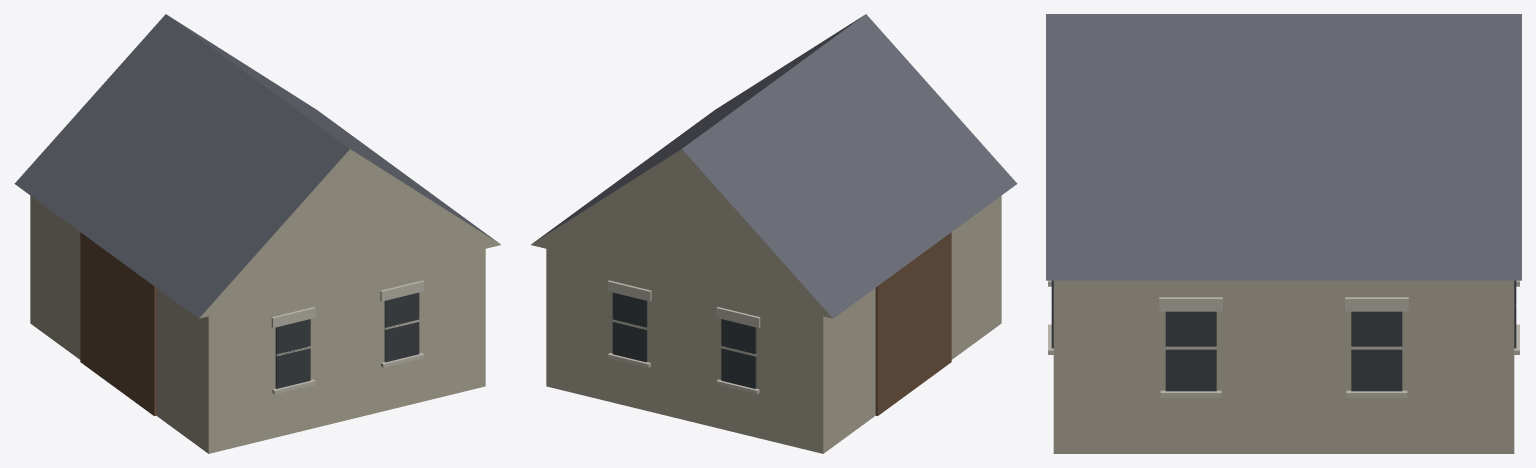
Rendered from house_2032_calumet_shed__draft_1904.glb.
The picture shows the model from 3 angles, left to right: view 1: azimuth 30°, elevation 25°; view 2: azimuth 150°, elevation 25°; view 3: azimuth 270°, elevation 25°; orthographic projection. The views are drawn at different scales.
Visible parts, largest first — view 1: house_2032_calumet_shed__draft_1904; view 2: house_2032_calumet_shed__draft_1904; view 3: house_2032_calumet_shed__draft_1904.
Part boxes in pixels (box(x1,y1,x2,y2)): house_2032_calumet_shed__draft_1904: box(14, 14, 500, 453); house_2032_calumet_shed__draft_1904: box(531, 14, 1017, 453); house_2032_calumet_shed__draft_1904: box(1046, 14, 1521, 453).
Size of the model in its own units: 7.1 by 6.13 by 7.49.
